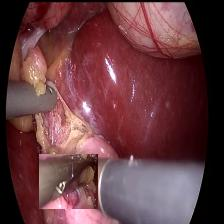Grasper: (38, 153, 97, 208)
Irrigator: (17, 78, 57, 118)
